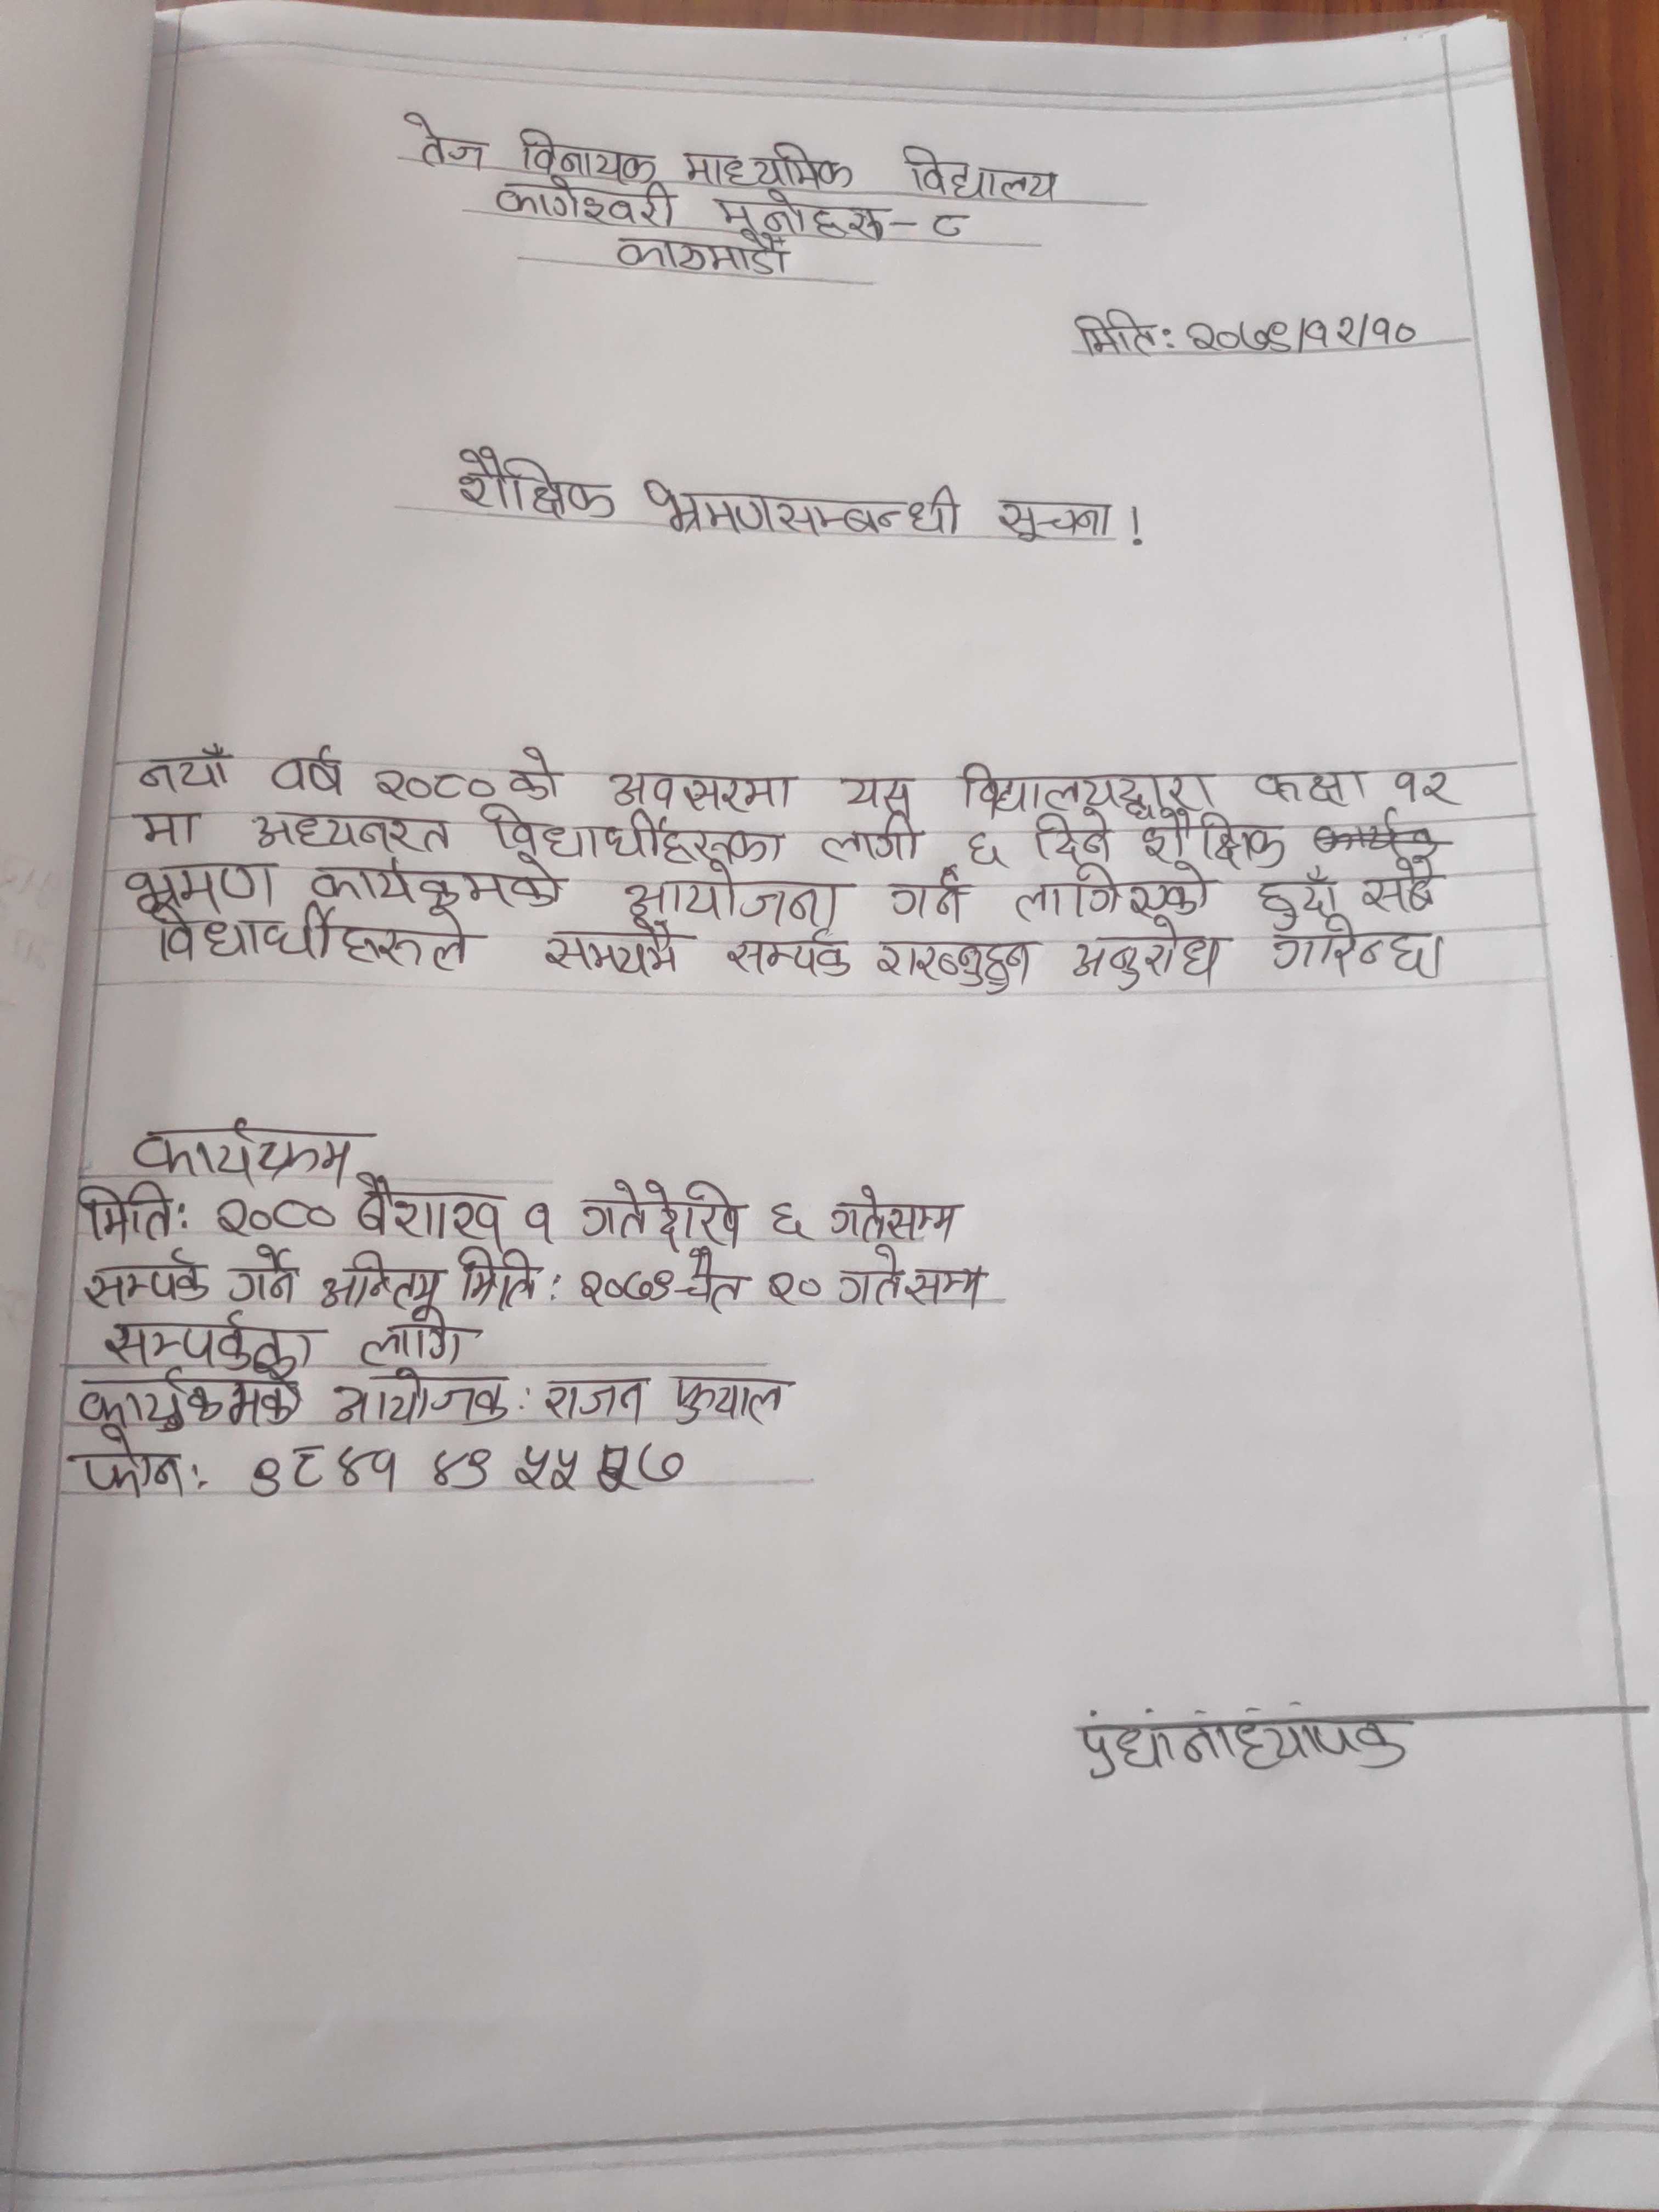text: (247, 1430, 687, 1501), (640, 467, 969, 543), (148, 906, 479, 981), (1060, 1712, 1427, 1778), (131, 1111, 357, 1191), (303, 848, 572, 914), (488, 806, 793, 860), (620, 857, 845, 930), (99, 1306, 326, 1374), (444, 441, 617, 528), (322, 1357, 518, 1430), (73, 1372, 307, 1432), (1000, 862, 1227, 923), (572, 1176, 748, 1251), (1068, 918, 1237, 993), (345, 1169, 511, 1244), (892, 138, 1072, 204), (953, 768, 1230, 810), (1270, 911, 1429, 982), (115, 848, 281, 916), (483, 176, 683, 232), (603, 765, 807, 819), (1176, 308, 1427, 352), (247, 805, 457, 855), (871, 934, 1039, 995), (606, 232, 800, 284), (1138, 805, 1295, 869), (537, 921, 687, 988), (70, 1428, 188, 1505), (681, 139, 859, 190), (514, 125, 666, 183), (78, 1252, 221, 1312), (993, 489, 1121, 556), (315, 1249, 448, 1312), (713, 190, 882, 237), (716, 928, 849, 988), (357, 1313, 490, 1372), (70, 1181, 183, 1249), (366, 747, 491, 808), (664, 1366, 793, 1423), (439, 1244, 545, 1313), (824, 1186, 964, 1238), (537, 1367, 652, 1426), (1249, 860, 1345, 930), (1354, 852, 1445, 923), (817, 813, 932, 869), (209, 1191, 338, 1240), (1248, 759, 1371, 808), (396, 110, 491, 172), (875, 867, 972, 927), (1073, 300, 1161, 366), (223, 1238, 305, 1305), (676, 1245, 751, 1317), (1026, 810, 1121, 866), (573, 1259, 674, 1310), (134, 744, 232, 796), (263, 744, 352, 799), (840, 1244, 910, 1313), (500, 738, 566, 808), (906, 1263, 988, 1313), (762, 1261, 835, 1317), (842, 761, 918, 812), (124, 806, 207, 852), (1387, 759, 1459, 812), (957, 822, 1006, 874), (762, 1191, 812, 1240), (519, 1198, 561, 1252), (922, 204, 972, 244)
